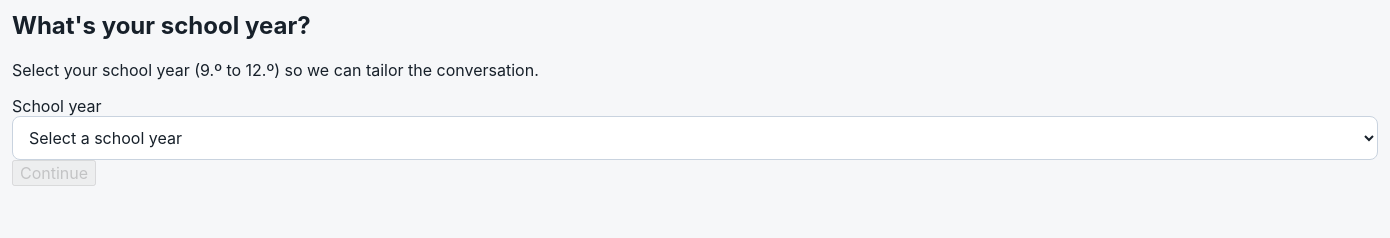
Scenario: shows an error message when the request fails
Select "12.º ano" in the dropdown labelled "School year" at (695, 138), box x1=12 y1=116 x2=1378 y2=160
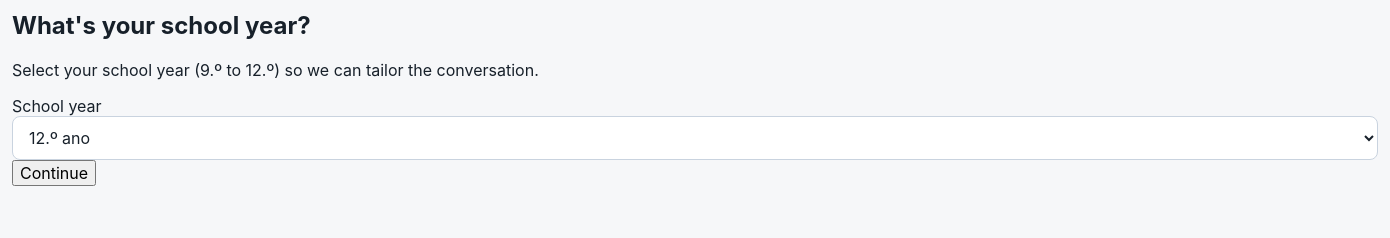
Click the button "Continue" at (54, 173), box x1=12 y1=160 x2=96 y2=186
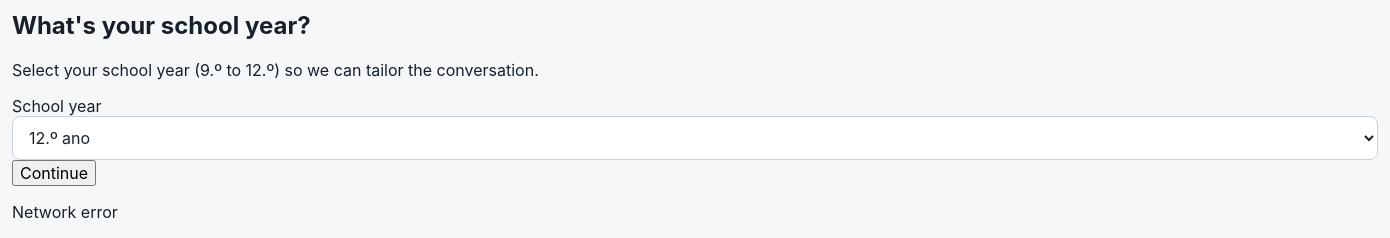
Check: the message reads "Network error", box x1=12 y1=202 x2=118 y2=222
